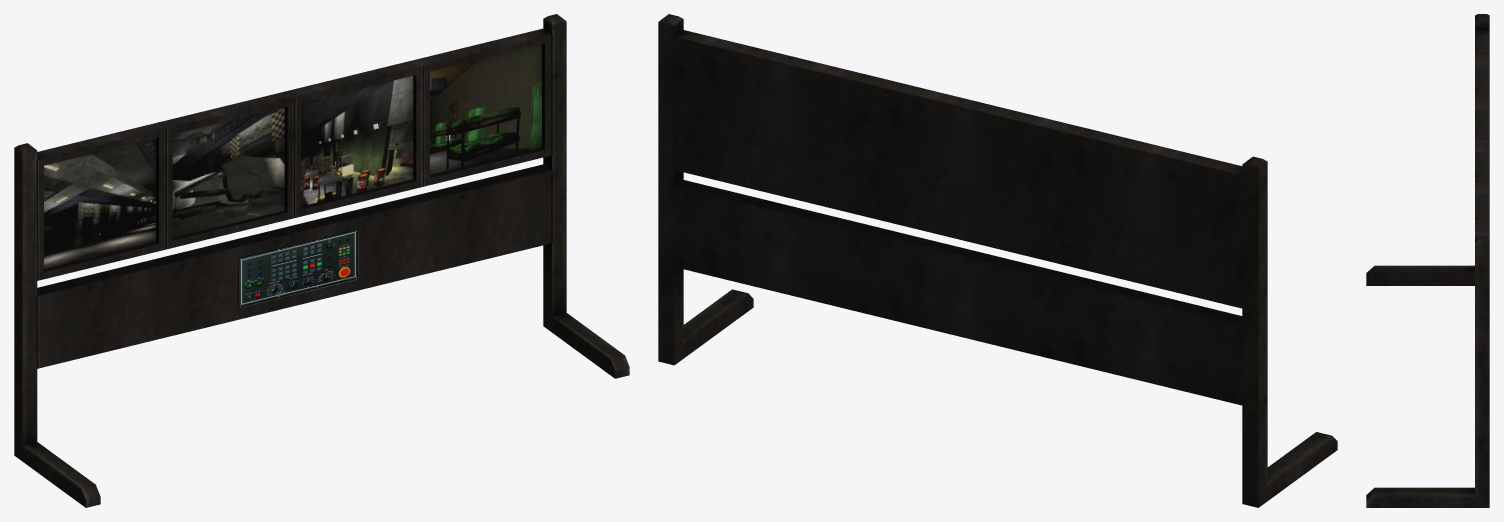
Rendered from monitoren.obj.
3 renders of one model, left to right at view 1: azimuth 30°, elevation 25°; view 2: azimuth 150°, elevation 25°; view 3: azimuth 270°, elevation 25°, orthographic. The views are drawn at different scales.
Parts seen in each view (by area): view 1: cube1_cube1_auv; view 2: cube1_cube1_auv; view 3: cube1_cube1_auv.
Part boxes in pixels (x1,y1,x2,y2): cube1_cube1_auv: (14,14,629,507); cube1_cube1_auv: (658,14,1337,507); cube1_cube1_auv: (1366,14,1489,507).
Bounding box in the file's own units: 8.36 × 4.56 × 1.91.
Materials: 1 (1 with a texture image).
